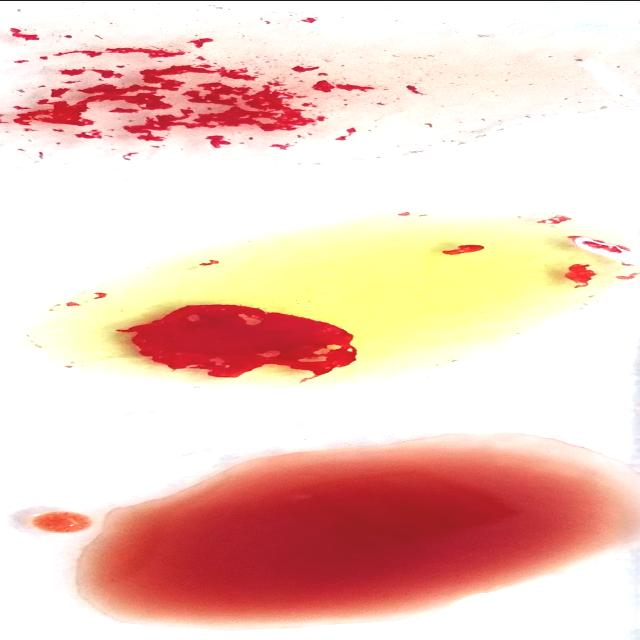B: (30, 216, 608, 387)
D: (9, 16, 562, 148)
